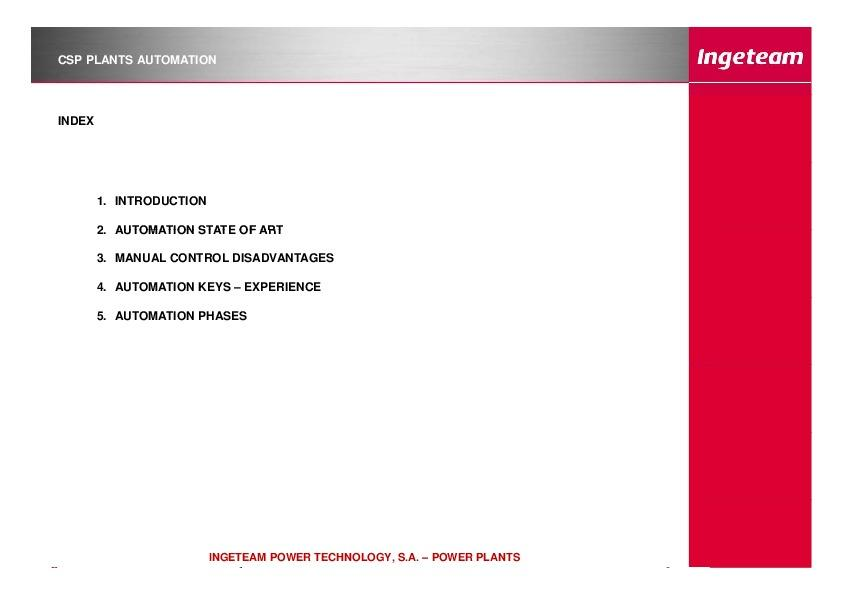paragraph: (69, 166, 404, 381)
subtitle: (45, 105, 109, 140)
title: (53, 29, 808, 81)
